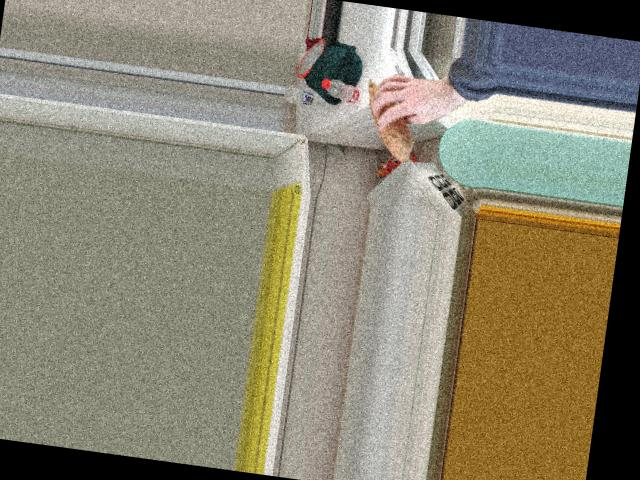sweet_potato: (362, 76, 422, 159)
